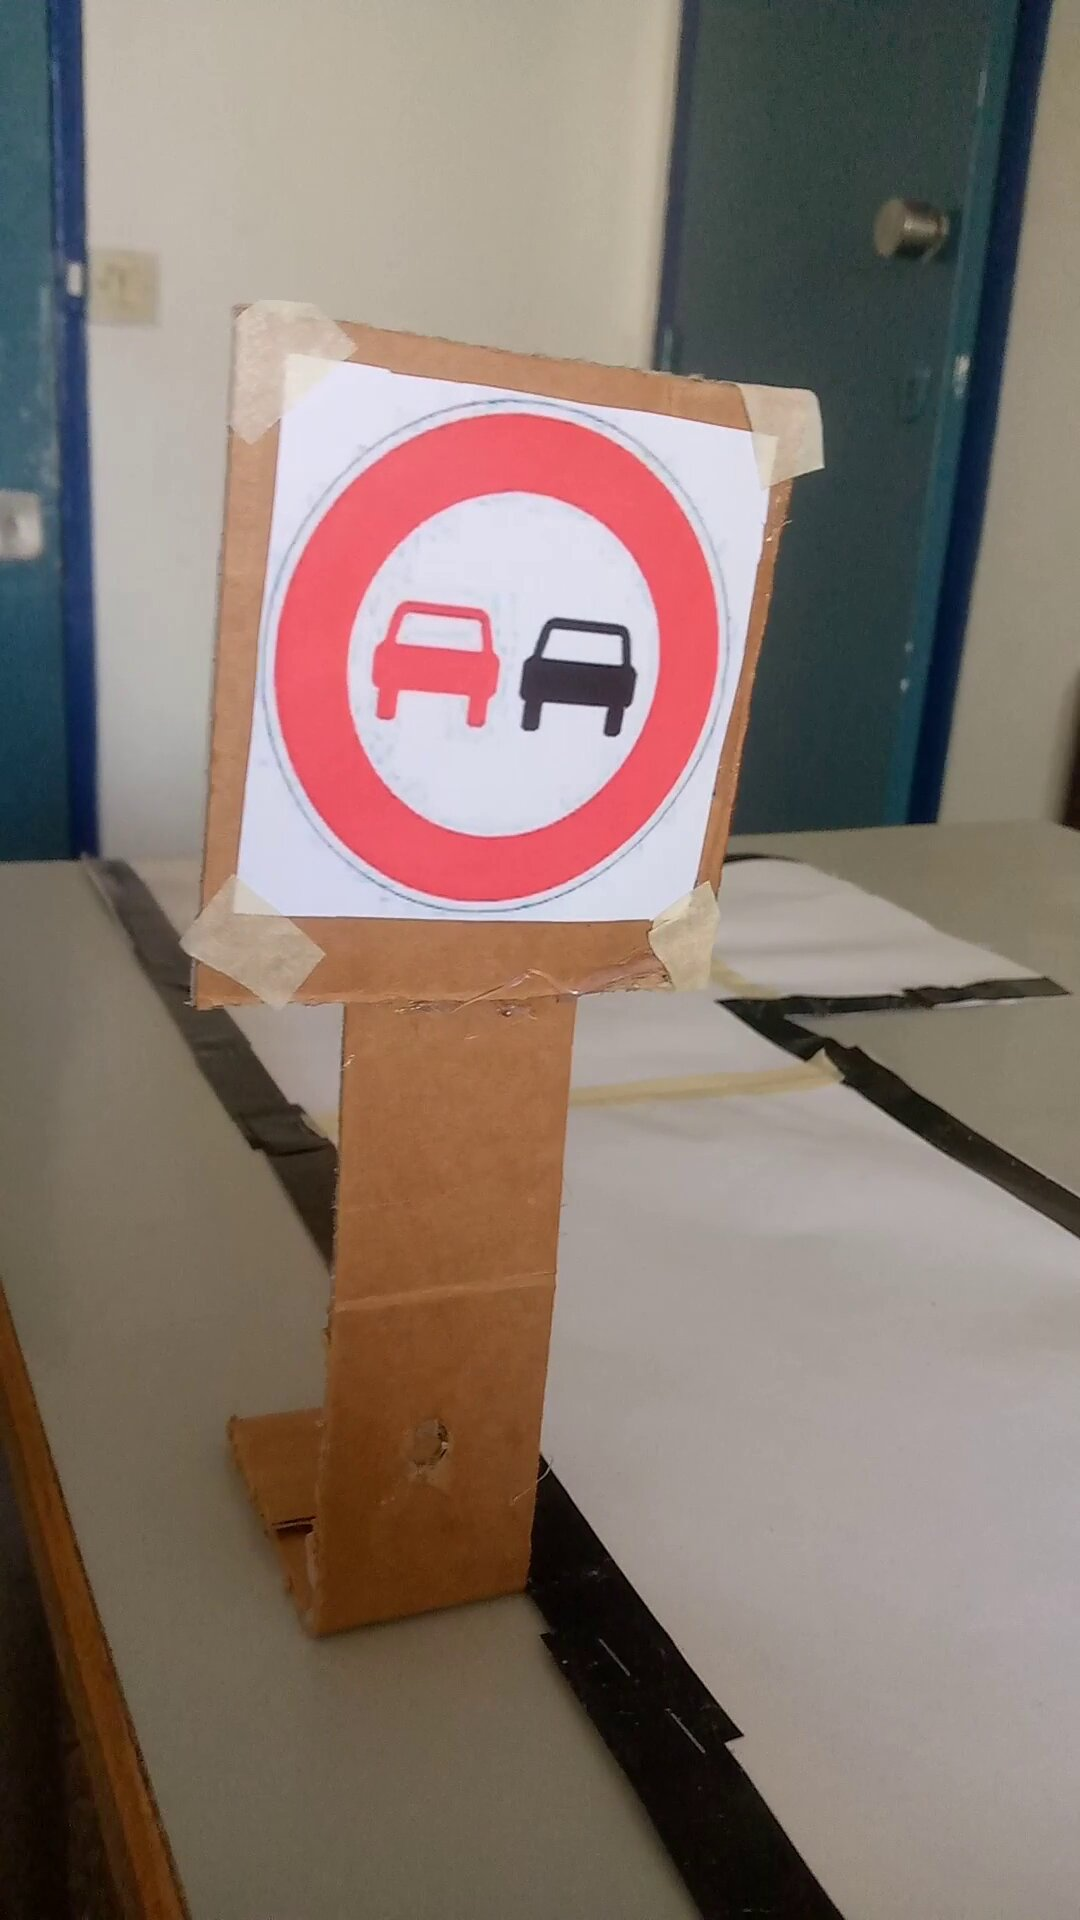panel100: (278, 351, 717, 899)
